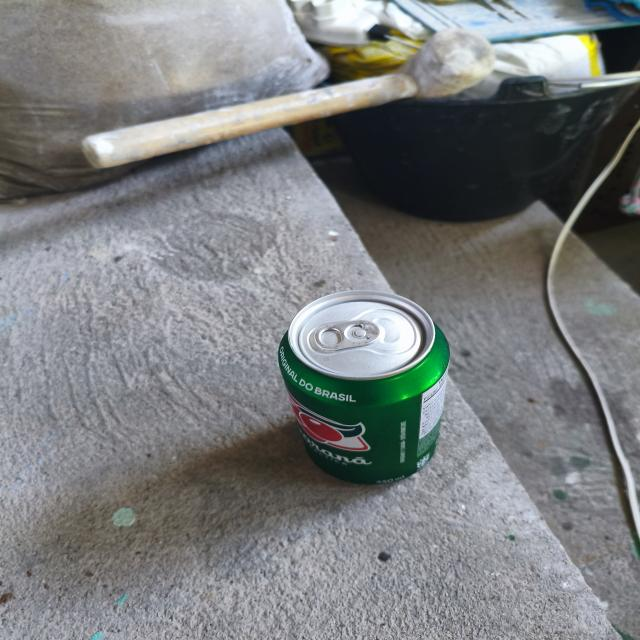Guarana: (273, 274, 482, 495)
